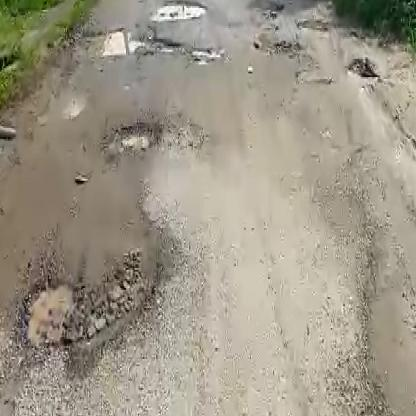pothole: (15, 249, 172, 365), (79, 28, 185, 58), (103, 117, 164, 156), (152, 0, 209, 23), (190, 44, 224, 62)
